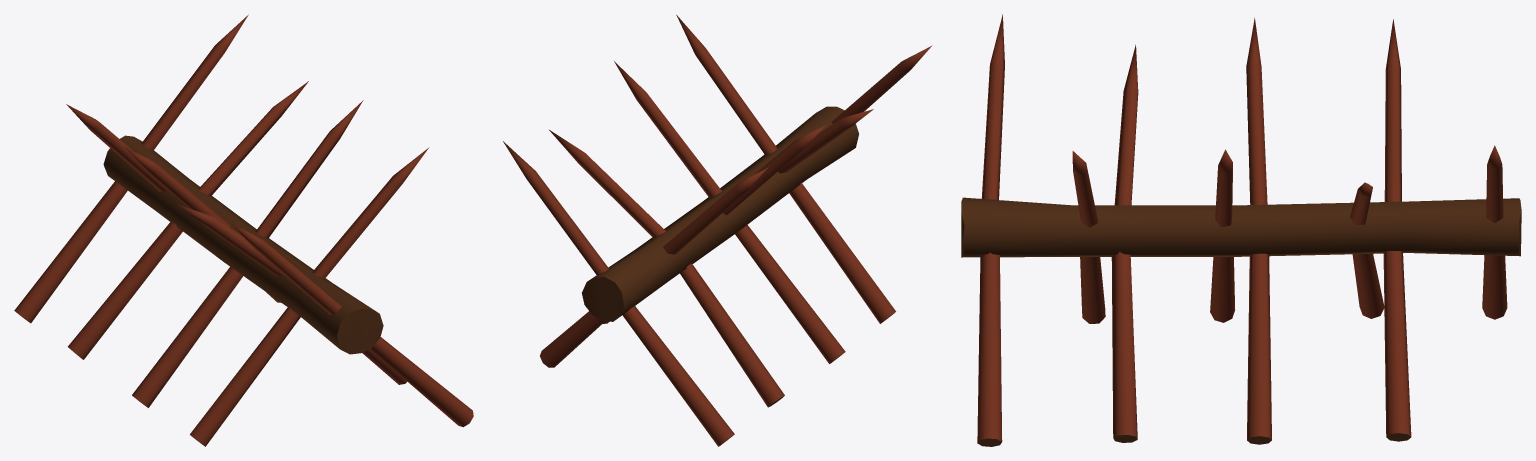
The model's file is trampaPinchos2.fbx.
The picture shows the model from 3 angles, left to right: view 1: azimuth 30°, elevation 25°; view 2: azimuth 150°, elevation 25°; view 3: azimuth 270°, elevation 25°; orthographic projection. The views are drawn at different scales.
Visible parts, largest first — view 1: trampa2; view 2: trampa2; view 3: trampa2.
Boxes of the visible parts, box(x1,y1,x2,y2) form: trampa2: box(14, 14, 473, 446); trampa2: box(503, 15, 932, 446); trampa2: box(961, 14, 1521, 446).
Bounding box in the file's own units: 97.35 × 98 × 164.
